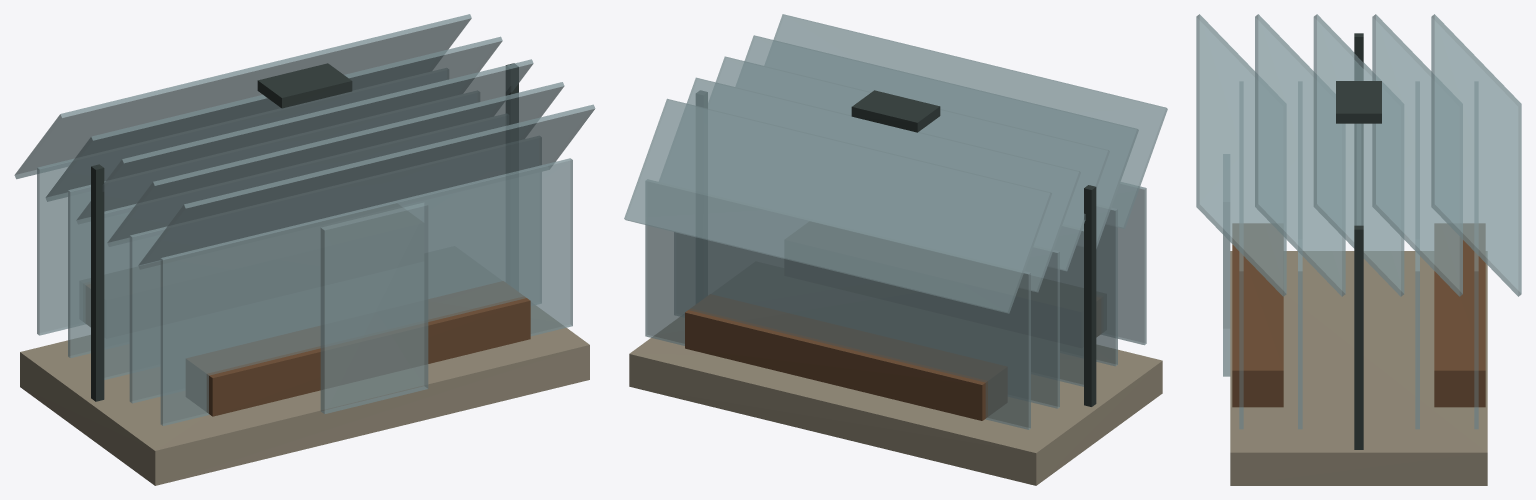
File: greenhouse.source.glb
3 views of the same model, side by side, from view 1: azimuth 30°, elevation 25°; view 2: azimuth 150°, elevation 25°; view 3: azimuth 270°, elevation 25° (orthographic). The views are drawn at different scales.
Parts seen in each view (by area): view 1: greenhouse-wall-panel-mesh (×5), greenhouse-roof-panel-mesh (×5), greenhouse-curb-mesh, greenhouse-door-mesh, greenhouse-bench-mesh, greenhouse-frame-rib-mesh (×2), greenhouse-roof-vent-mesh; view 2: greenhouse-roof-panel-mesh (×5), greenhouse-wall-panel-mesh (×5), greenhouse-curb-mesh, greenhouse-bench-mesh, greenhouse-frame-rib-mesh, greenhouse-roof-vent-mesh; view 3: greenhouse-roof-panel-mesh (×5), greenhouse-curb-mesh, greenhouse-bench-mesh (×2), greenhouse-wall-panel-mesh (×4), greenhouse-frame-rib-mesh (×2), greenhouse-roof-vent-mesh, greenhouse-door-mesh.
Part boxes in pixels (x1=…): greenhouse-wall-panel-mesh (×5): x1=37, y1=68, x2=572, y2=425; greenhouse-roof-panel-mesh (×5): x1=14, y1=14, x2=595, y2=269; greenhouse-curb-mesh: x1=20, y1=305, x2=589, y2=485; greenhouse-door-mesh: x1=320, y1=202, x2=428, y2=414; greenhouse-bench-mesh: x1=186, y1=281, x2=530, y2=416; greenhouse-frame-rib-mesh (×2): x1=91, y1=63, x2=518, y2=401; greenhouse-roof-vent-mesh: x1=257, y1=63, x2=352, y2=108; greenhouse-roof-panel-mesh (×5): x1=624, y1=14, x2=1167, y2=313; greenhouse-wall-panel-mesh (×5): x1=645, y1=180, x2=1146, y2=429; greenhouse-curb-mesh: x1=629, y1=317, x2=1162, y2=485; greenhouse-bench-mesh: x1=685, y1=294, x2=1007, y2=420; greenhouse-frame-rib-mesh: x1=1084, y1=185, x2=1096, y2=406; greenhouse-roof-vent-mesh: x1=851, y1=90, x2=940, y2=132; greenhouse-roof-panel-mesh (×5): x1=1196, y1=14, x2=1521, y2=296; greenhouse-curb-mesh: x1=1230, y1=251, x2=1487, y2=485; greenhouse-bench-mesh (×2): x1=1232, y1=223, x2=1485, y2=407; greenhouse-wall-panel-mesh (×4): x1=1239, y1=82, x2=1478, y2=429; greenhouse-frame-rib-mesh (×2): x1=1354, y1=33, x2=1363, y2=449; greenhouse-roof-vent-mesh: x1=1336, y1=81, x2=1381, y2=123; greenhouse-door-mesh: x1=1223, y1=154, x2=1230, y2=376.
Size of the model in its own units: 2.6 by 1.73 by 1.77.
